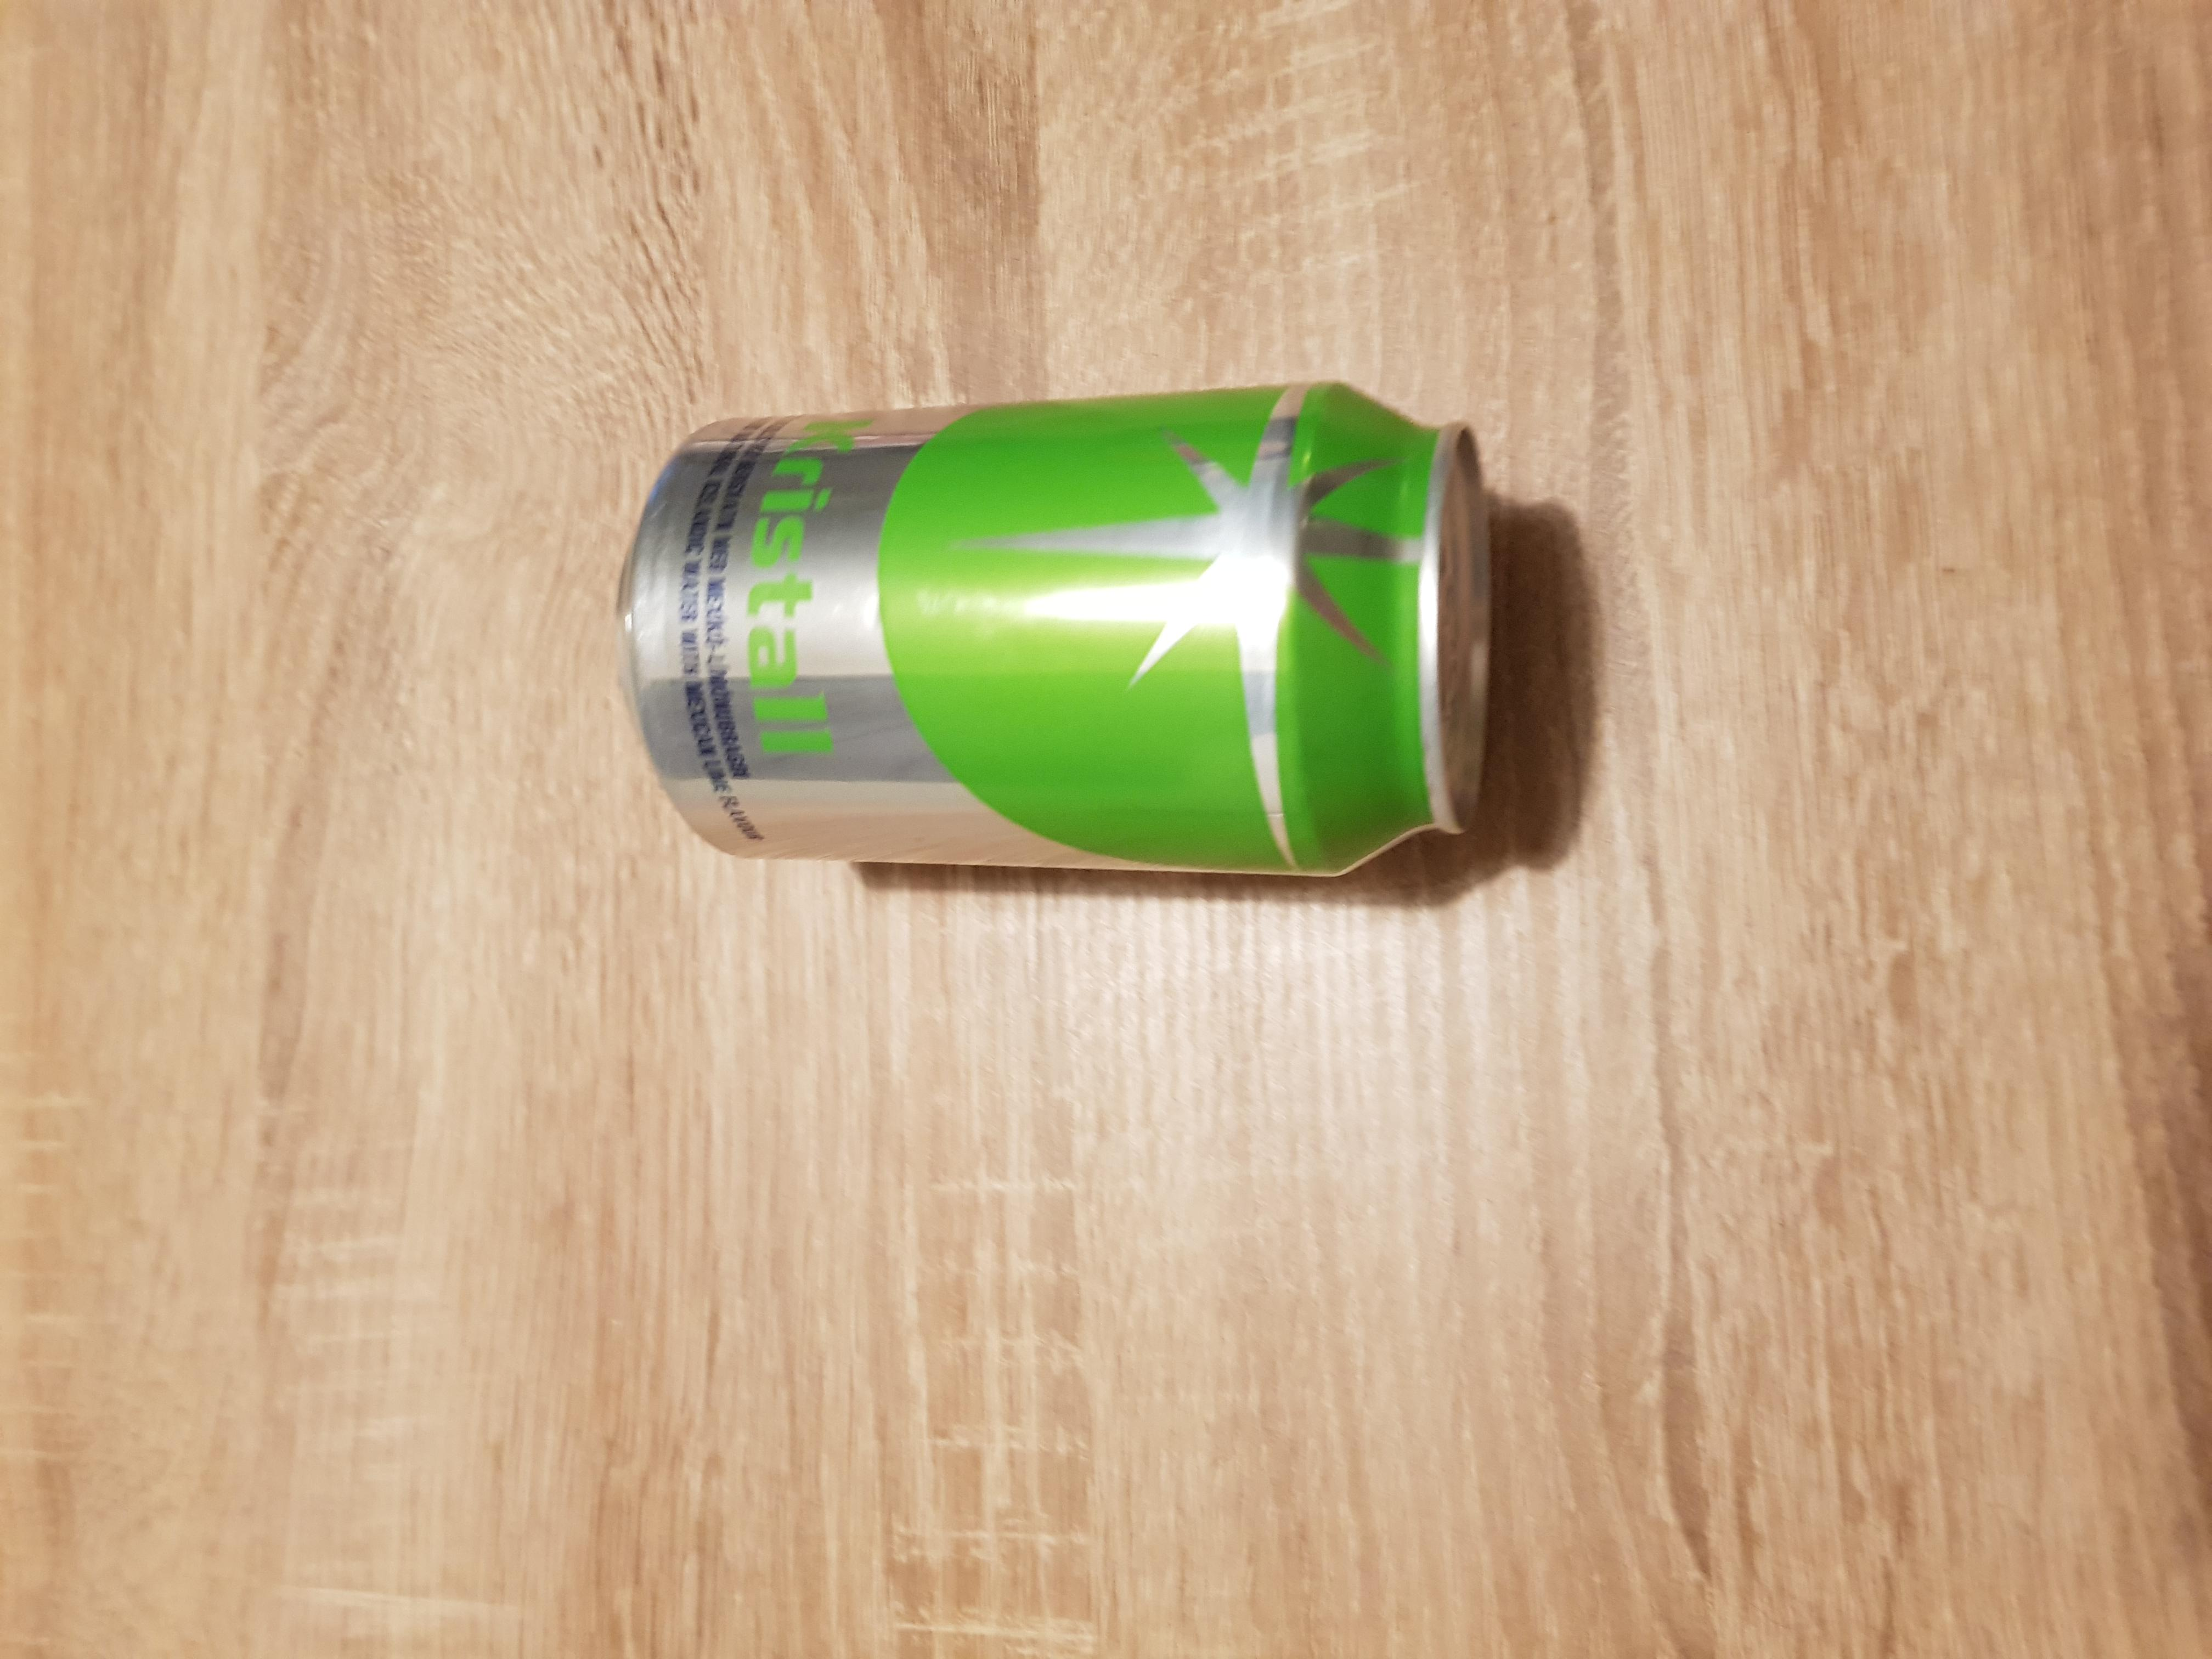Can: (620, 380, 1496, 875)
